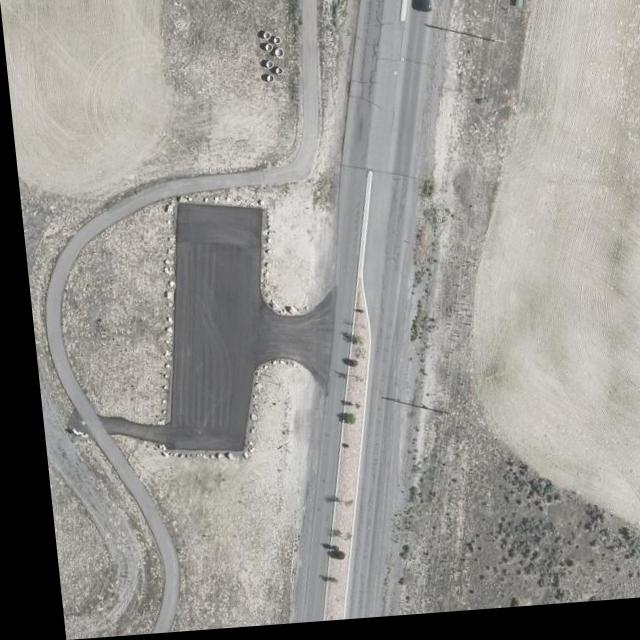vehicle: (416, 0, 434, 20)
